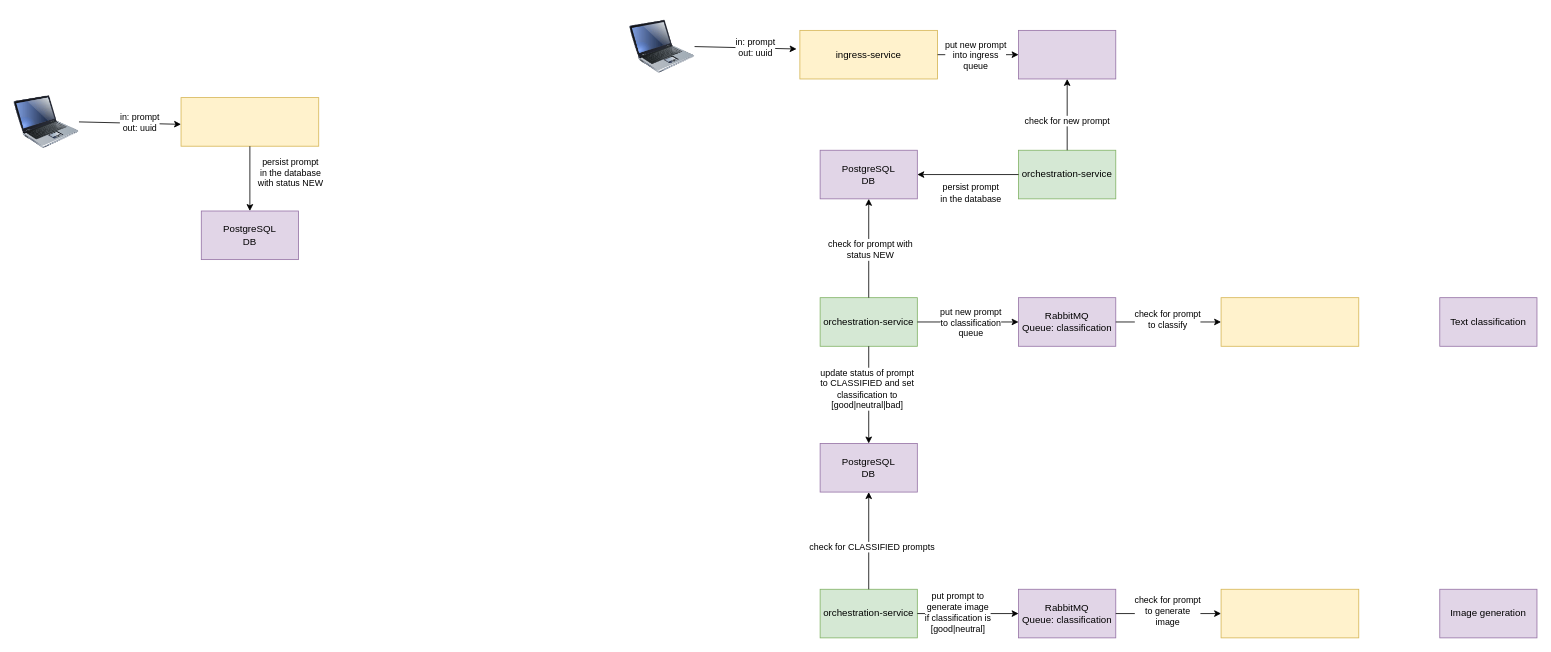
The diagram is 1551 pixels wide and 652 high, and some of its shapes have lost their labels. The shapes that lost their labels are listed below. From the top down, each one's centre as x and y in pixels, then its label:
the point at 1067,54: RabbitMQ Queue: ingress
the point at 249,121: webapi-service
the point at 1289,321: classification-service
the point at 1289,613: image-generation-service
